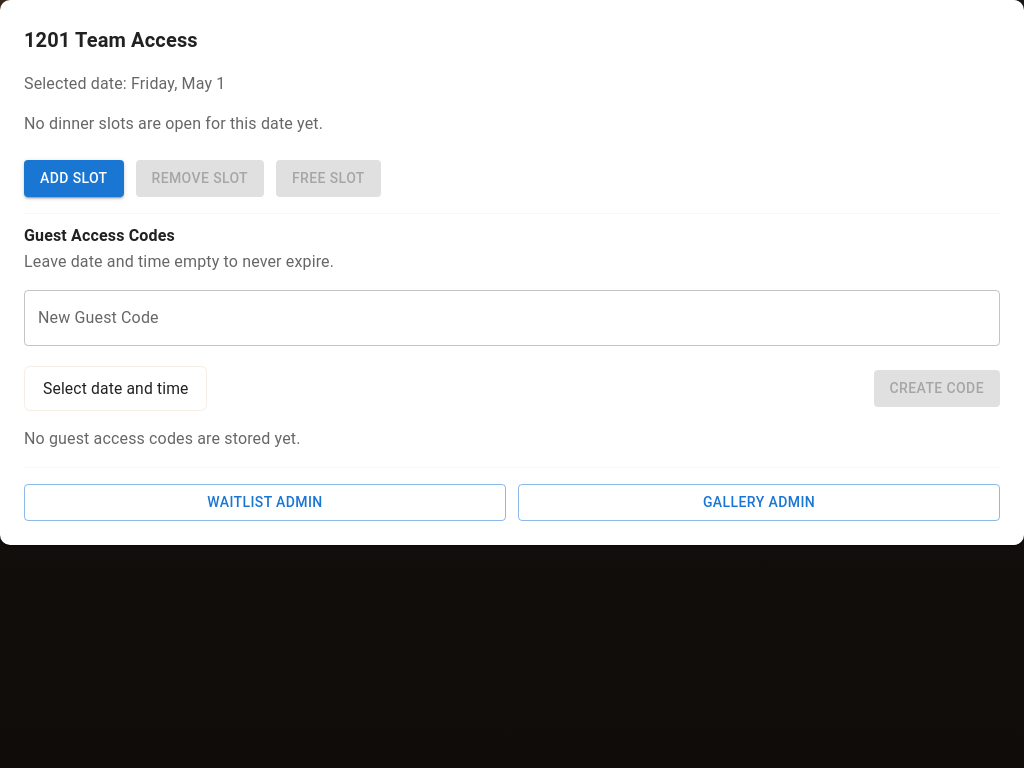
Test: StaffControlsCard – Add Slot dialog › closes the dialog when Cancel is clicked
Click the button "Add Slot": click(74, 178) [24,160,124,196]
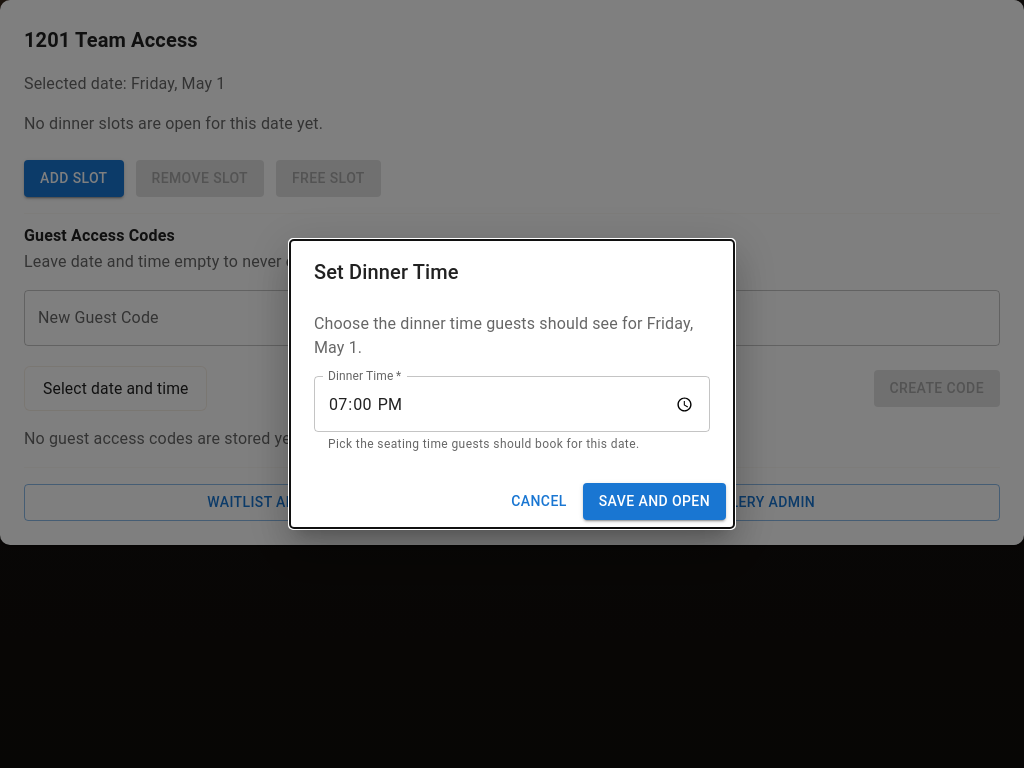
Click the button "Cancel": click(539, 501) [503,483,575,520]
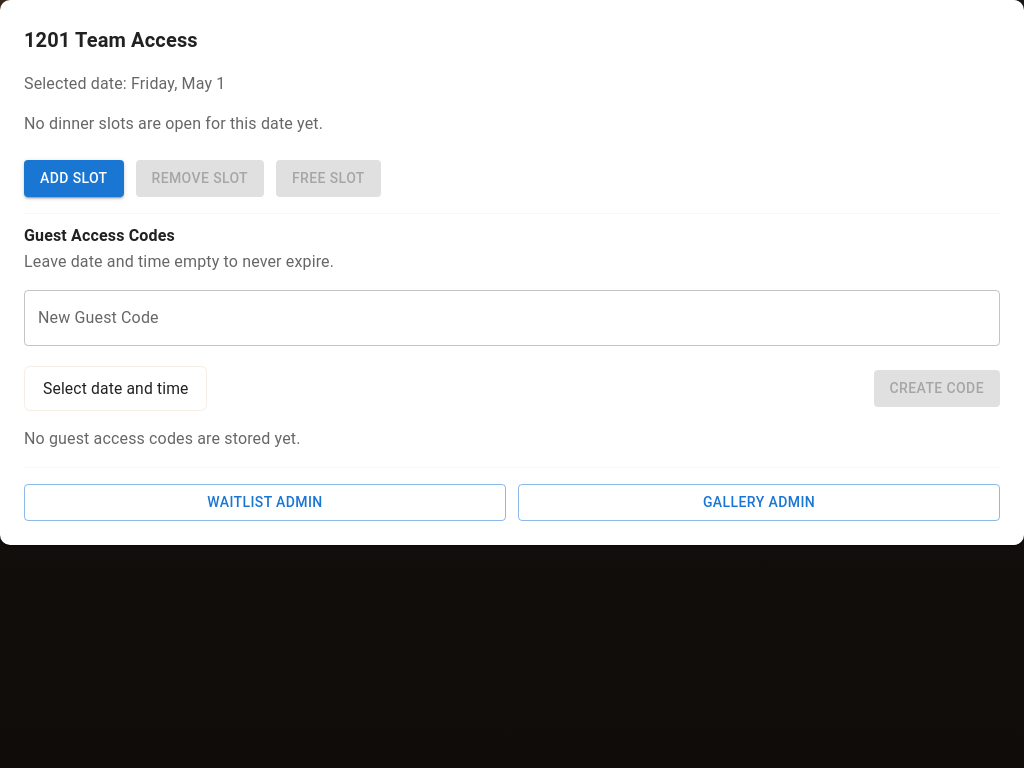
Now the dialog is gone
